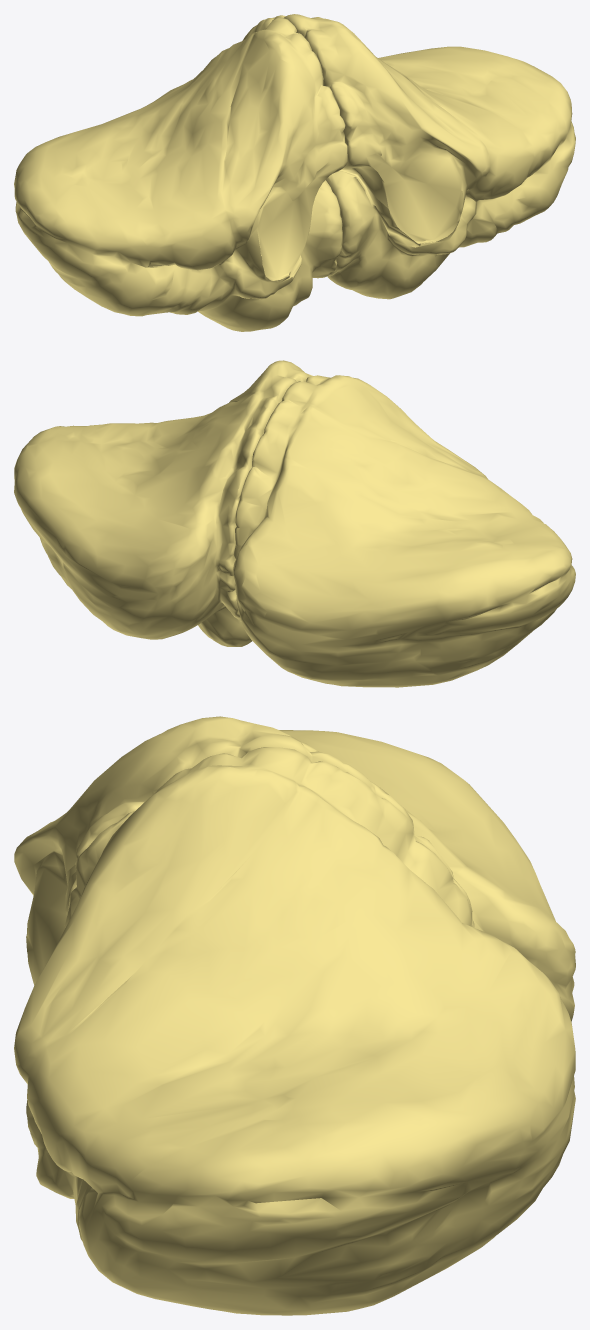
Rendered from cerebelo.glb.
3 renders of one model, top to bottom at view 1: azimuth 30°, elevation 25°; view 2: azimuth 150°, elevation 25°; view 3: azimuth 270°, elevation 25°, orthographic. The views are drawn at different scales.
Parts seen in each view (by area): view 1: cerebelo; view 2: cerebelo; view 3: cerebelo.
Boxes of the visible parts, x1,y1,x2,y2 form: cerebelo: (14, 14, 575, 331); cerebelo: (14, 360, 575, 687); cerebelo: (14, 716, 575, 1315).
Size of the model in its own units: 0.1065 by 0.0532 by 0.0562.
